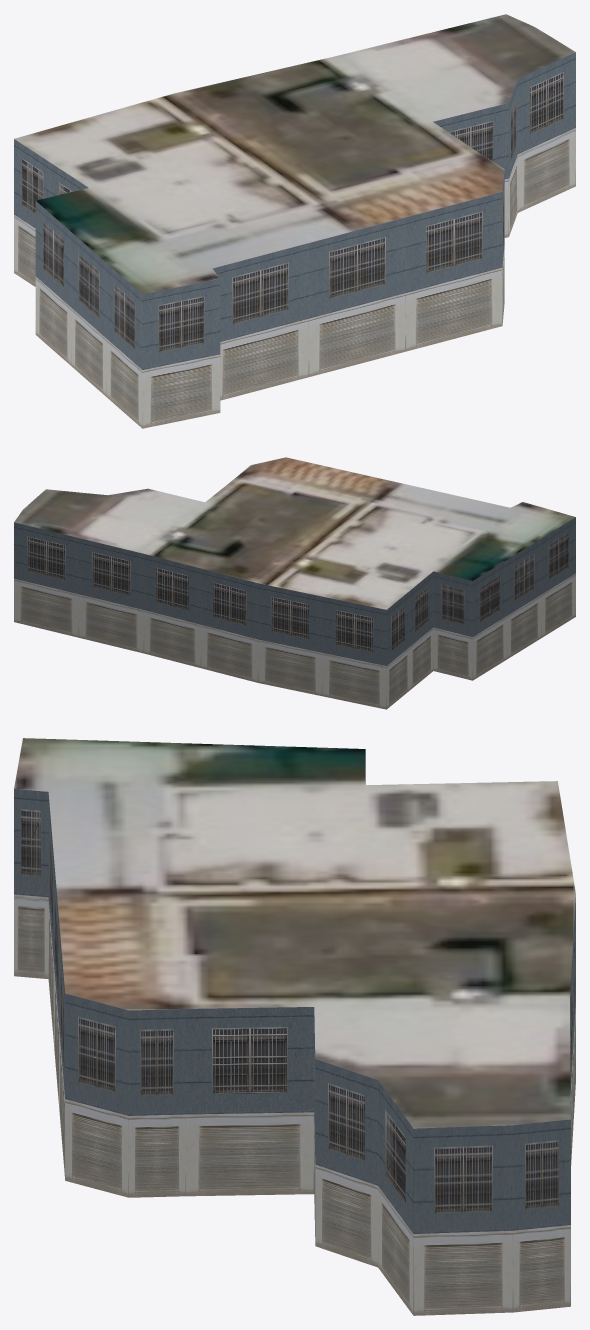
The model's file is T_1SXPR4NVPP.dae.
3 renders of one model, top to bottom at view 1: azimuth 30°, elevation 25°; view 2: azimuth 150°, elevation 25°; view 3: azimuth 270°, elevation 25°, orthographic. The views are drawn at different scales.
Visible parts, largest first — view 1: SketchUp (×14); view 2: SketchUp (×13); view 3: SketchUp (×19).
Part boxes in pixels (left/top/right/bottom): SketchUp (×14): left=14, top=14, right=575, bottom=428; SketchUp (×13): left=14, top=457, right=575, bottom=709; SketchUp (×19): left=14, top=738, right=575, bottom=1315.
Size of the model in its own units: 33.76 by 20.53 by 7.55.
3 materials, 3 textured.
